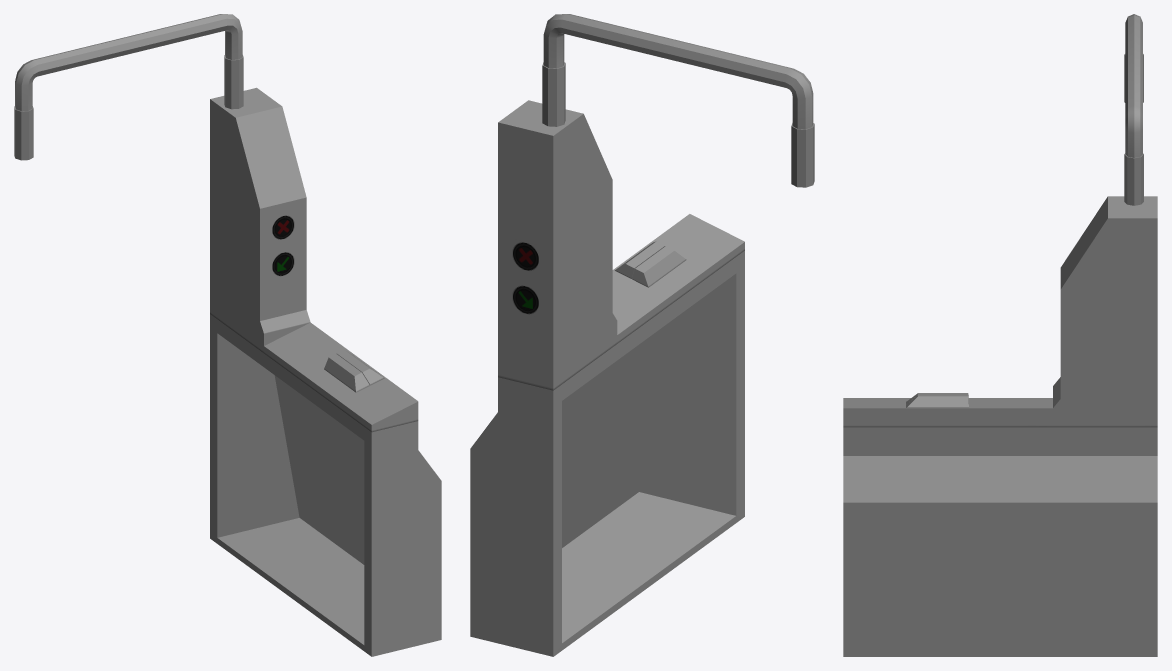
File: SW_PROP_TicketReaderGate.fbx
3 renders of one model, left to right at view 1: azimuth 30°, elevation 25°; view 2: azimuth 150°, elevation 25°; view 3: azimuth 270°, elevation 25°, orthographic. The views are drawn at different scales.
Parts seen in each view (by area): view 1: SW_PROP_TicketReaderGate; view 2: SW_PROP_TicketReaderGate; view 3: SW_PROP_TicketReaderGate.
Part boxes in pixels (x1,y1,x2,y2): SW_PROP_TicketReaderGate: (14, 14, 441, 656); SW_PROP_TicketReaderGate: (470, 14, 814, 656); SW_PROP_TicketReaderGate: (843, 14, 1157, 656).
Size of the model in its own units: 1.19 by 2.18 by 1.2.
